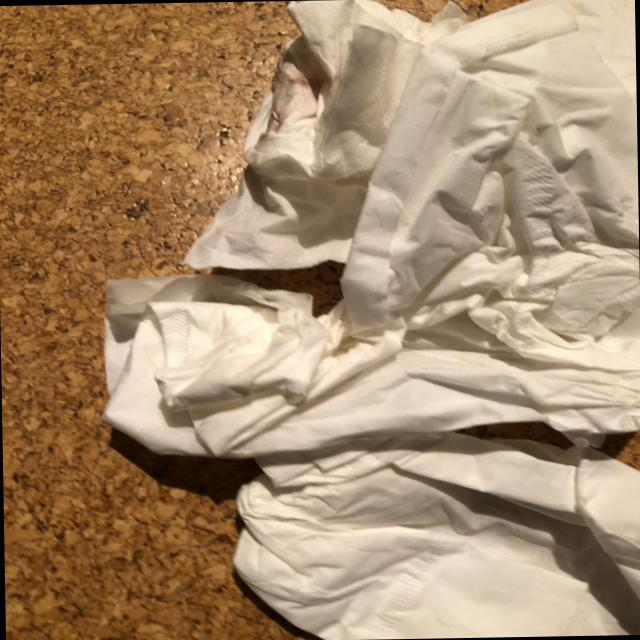organic waste: (328, 0, 640, 371), (97, 265, 640, 464), (225, 413, 640, 640), (169, 0, 464, 271)
